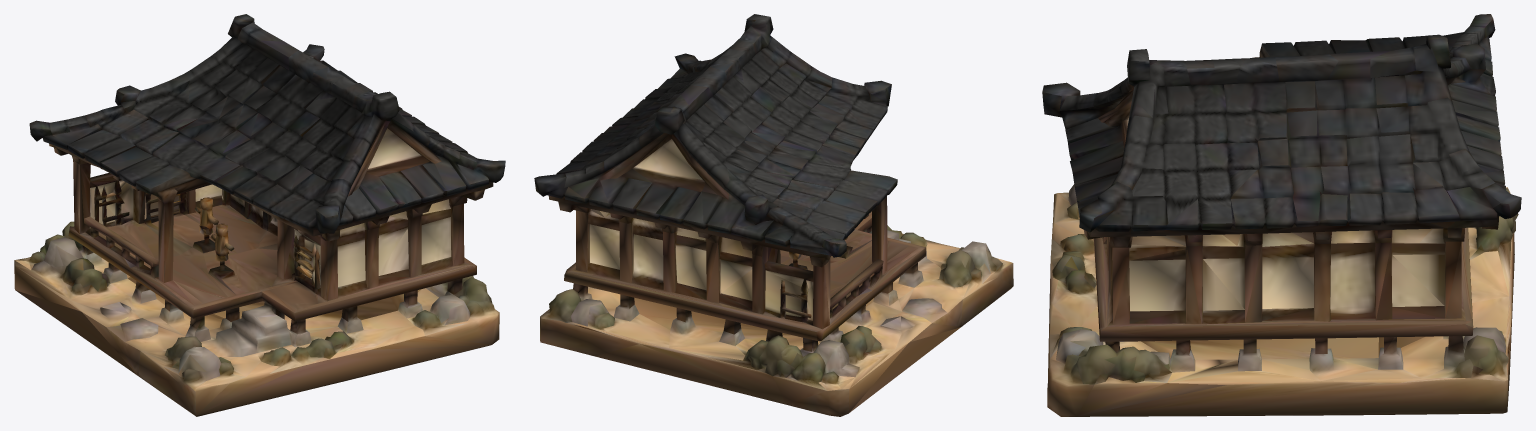
Rendered from dojo_t2.glb.
The picture shows the model from 3 angles, left to right: view 1: azimuth 30°, elevation 25°; view 2: azimuth 150°, elevation 25°; view 3: azimuth 270°, elevation 25°; orthographic projection. The views are drawn at different scales.
Parts seen in each view (by area): view 1: tripo_node_1f700d75-640b-4dae-948a-4eb86d669bb6; view 2: tripo_node_1f700d75-640b-4dae-948a-4eb86d669bb6; view 3: tripo_node_1f700d75-640b-4dae-948a-4eb86d669bb6.
Part boxes in pixels (x1,y1,x2,y2): tripo_node_1f700d75-640b-4dae-948a-4eb86d669bb6: (14,14,505,416); tripo_node_1f700d75-640b-4dae-948a-4eb86d669bb6: (534,14,1013,416); tripo_node_1f700d75-640b-4dae-948a-4eb86d669bb6: (1042,14,1521,416).
Size of the model in its own units: 0.9793 by 0.6833 by 0.9523.
1 material, 1 textured.
